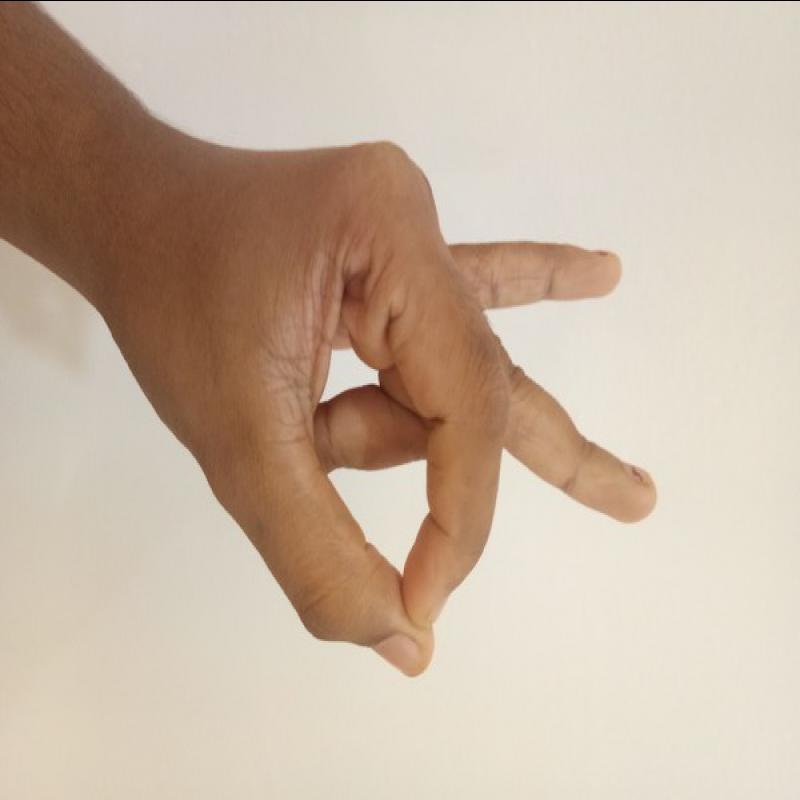Katakam: (128, 127, 667, 686)
